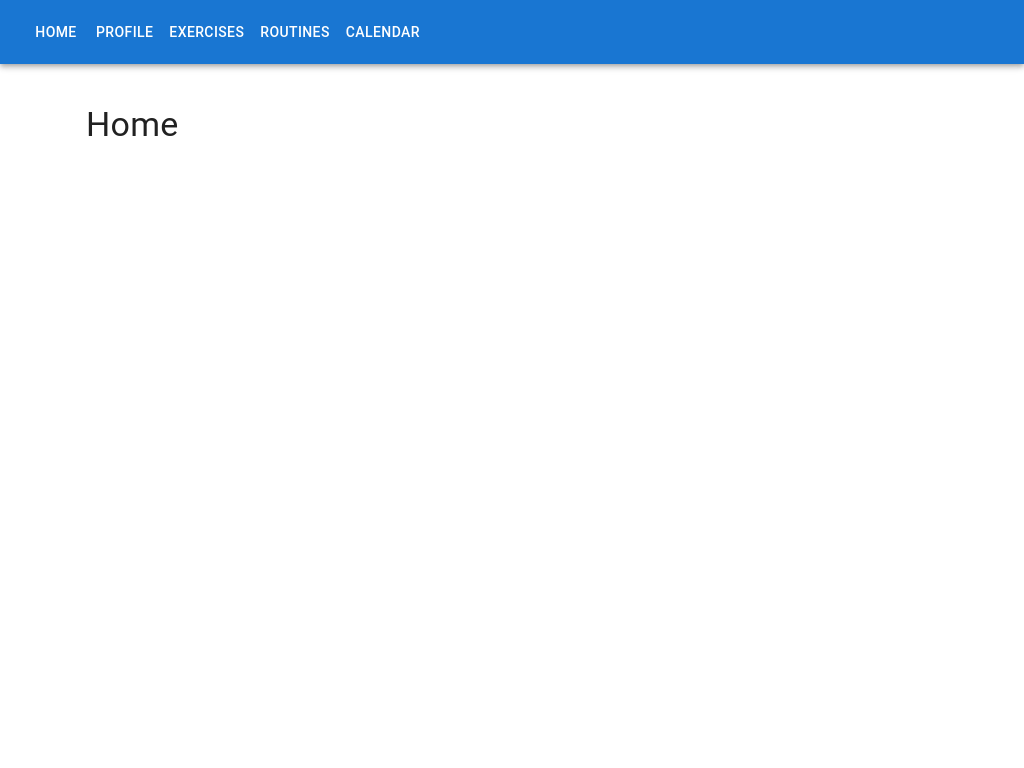
Test: Exercise › should delete exercise successfully
The width and height of the screenshot is (1024, 768).
What coordinates should you click on to do the following:
click the link "Exercises"
I would click on:
 (207, 32)
Its box is [169, 24, 244, 40].
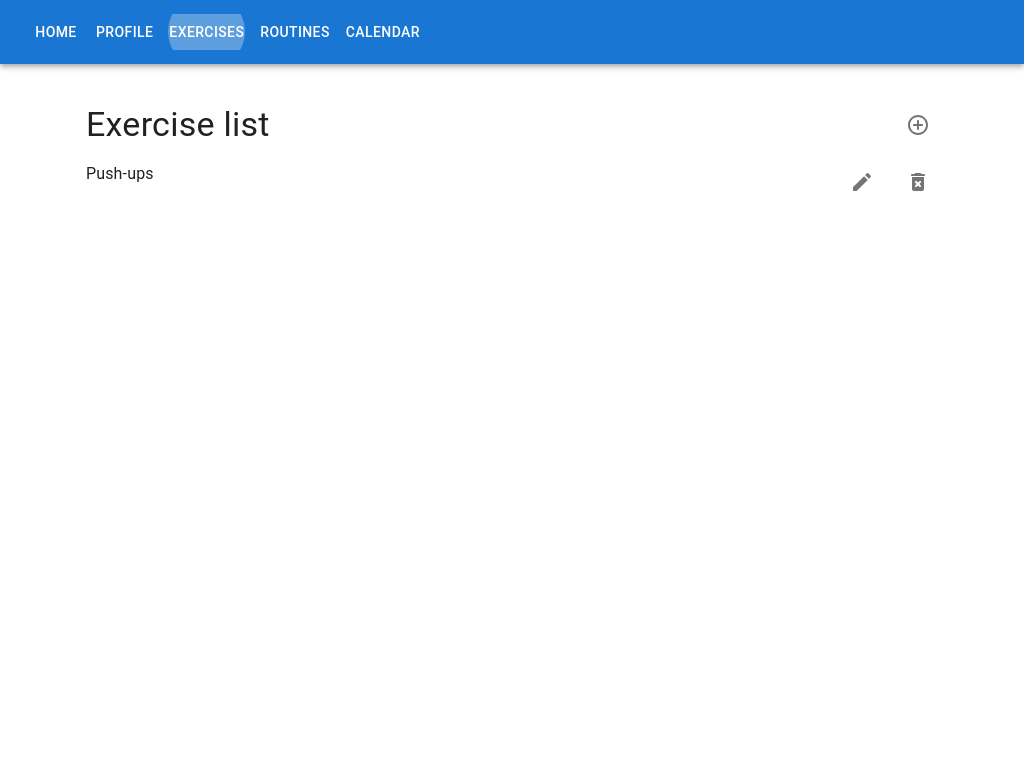
Check: the heading "Exercise list" is shown, box [86, 104, 270, 146]
Check: the text "Push-ups" is shown, box [86, 164, 154, 183]
What coordinates should you click on to do the following:
click the icon with test id "DeleteForeverRoundedIcon"
I would click on:
 (918, 182)
Its box is [906, 170, 930, 194].
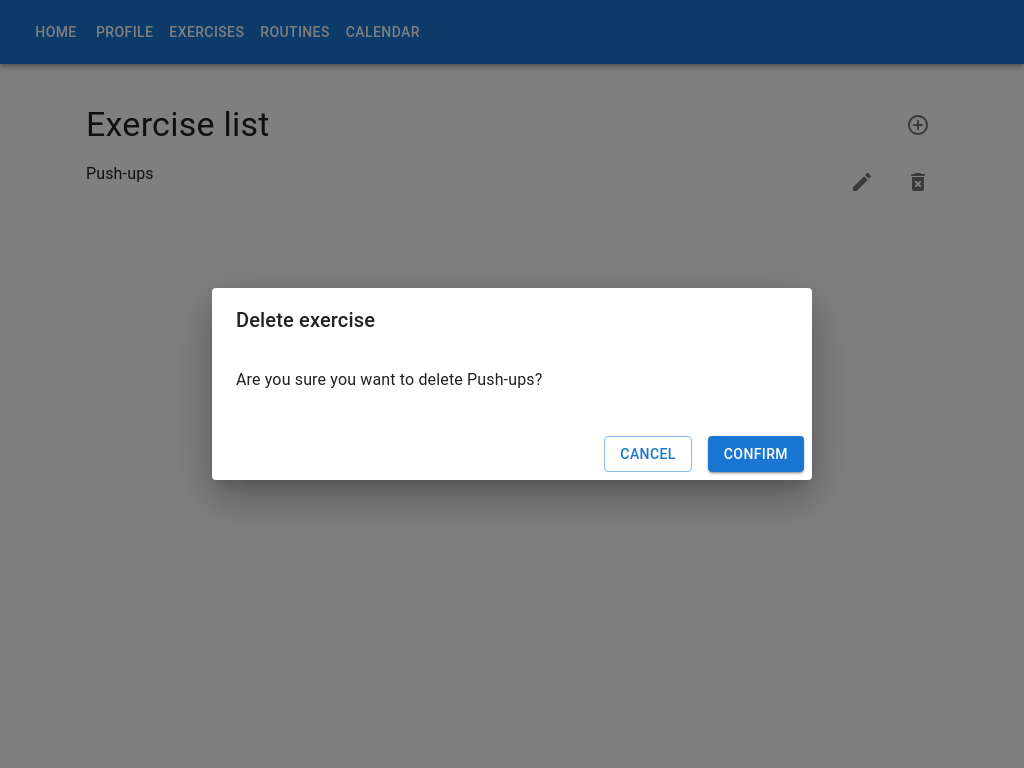
Check: the heading "Delete exercise" is shown, box [236, 308, 375, 332]
What coordinates should you click on to do the following:
click the button "Confirm"
I would click on:
 (756, 455)
Its box is [708, 436, 804, 473].
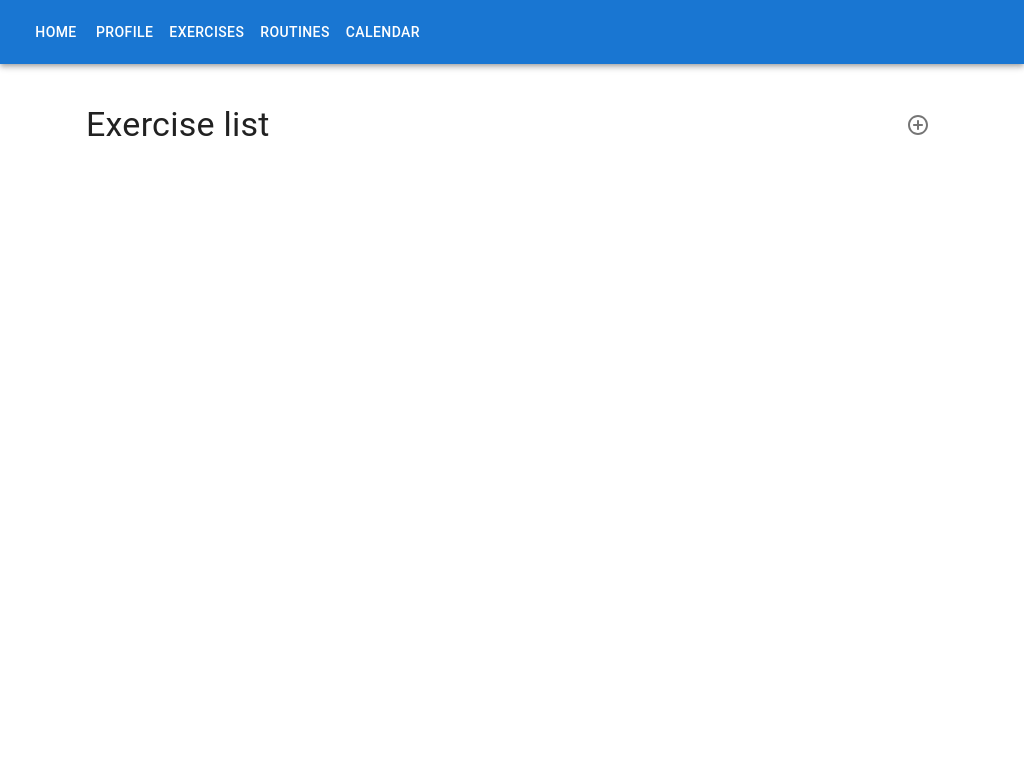
Check: the text "Push-ups" is gone
